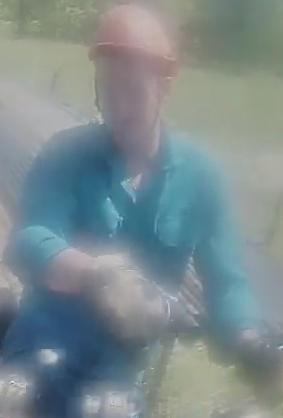gloves: (77, 249, 172, 347), (239, 331, 283, 400)
helmet: (84, 0, 178, 75)
vest: (12, 116, 218, 352)
